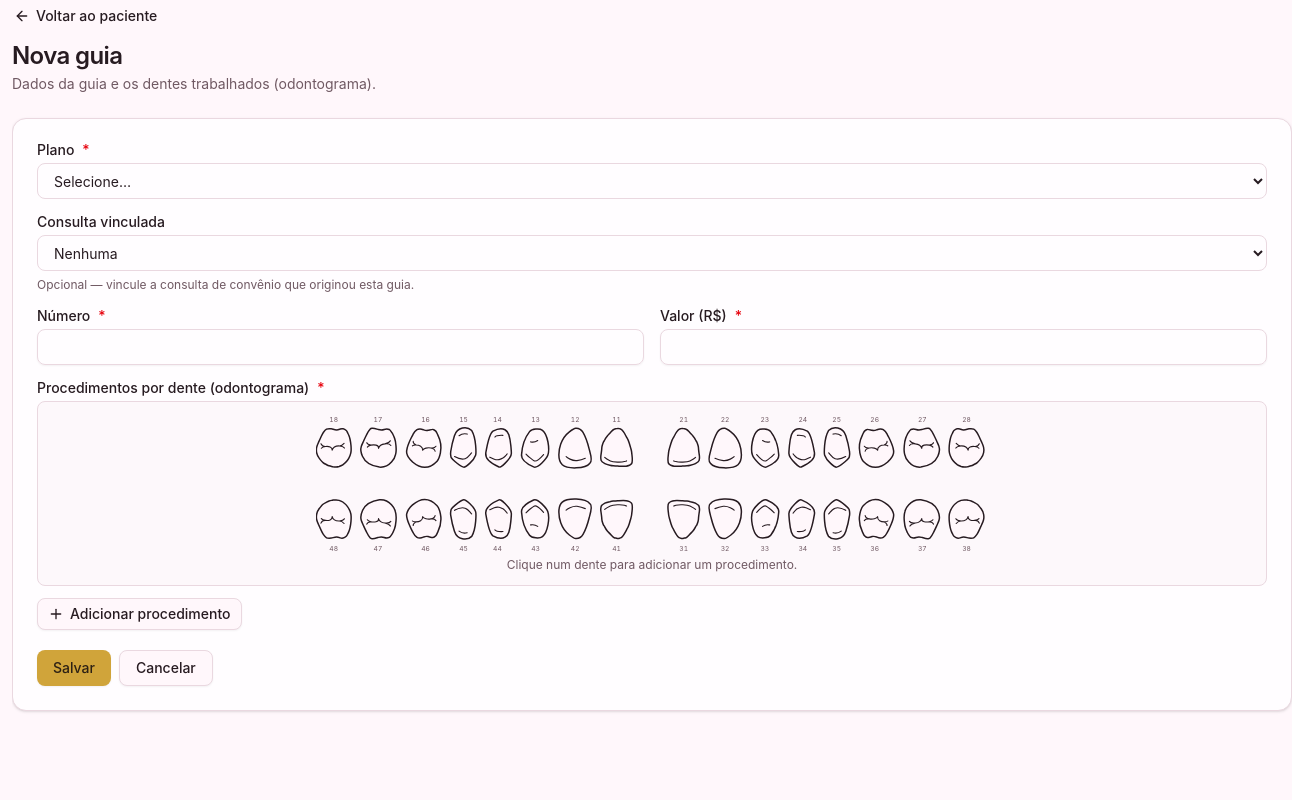
Test case: GuiaPage › exige ao menos um dente selecionado para salvar
The image size is (1292, 800).
Select "Amil" in the dropdown labelled "Plano *": {"x": 652, "y": 181} x1=37 y1=163 x2=1267 y2=199
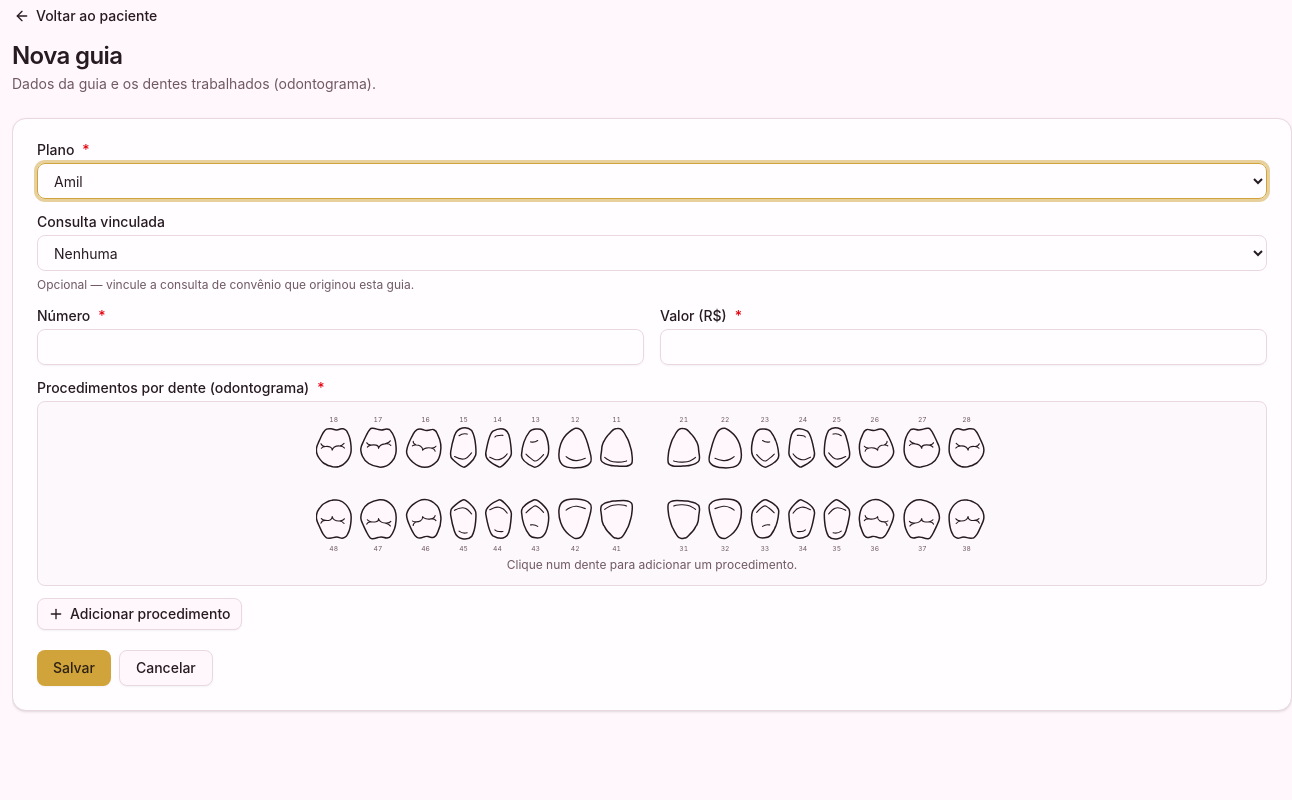
In the field labelled "Número *": {"x": 340, "y": 347} x1=37 y1=329 x2=644 y2=365, type "G-2"
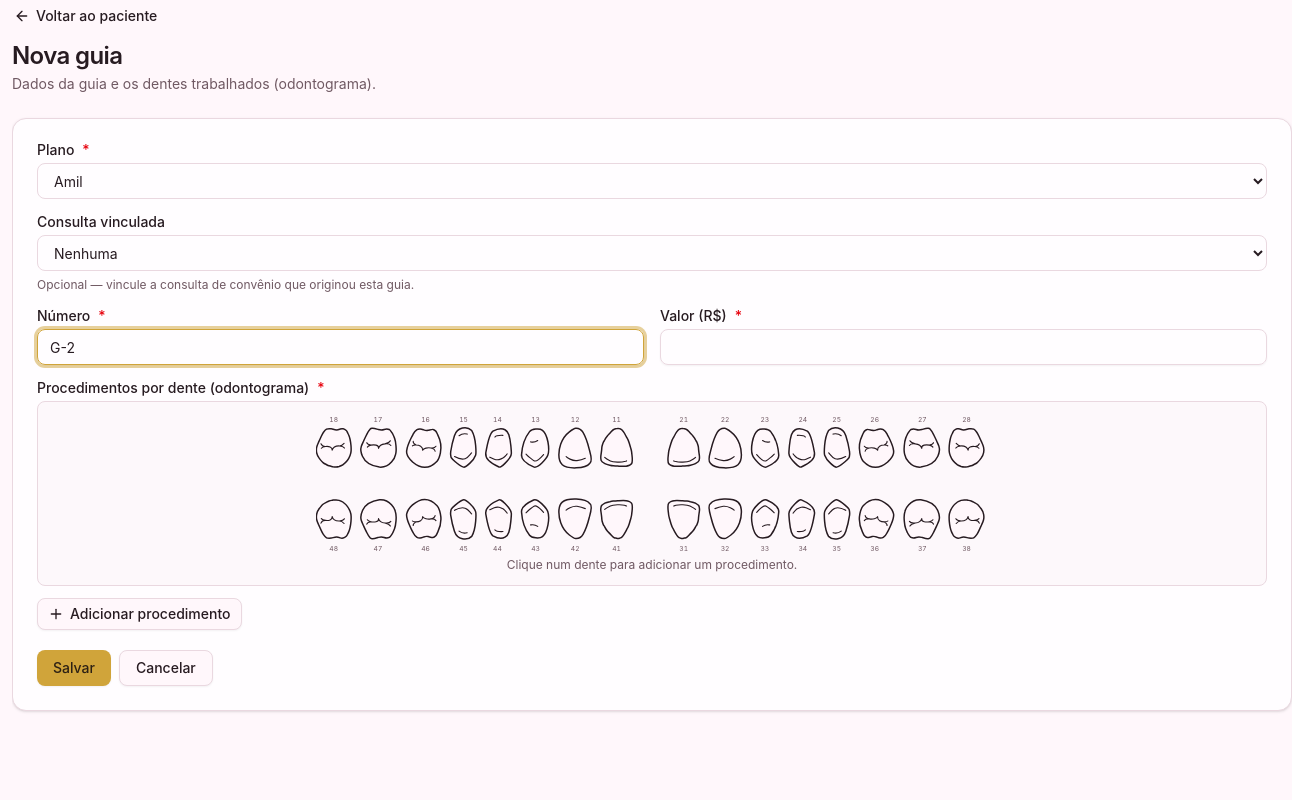
In the field labelled "Valor (R$) *": {"x": 964, "y": 347} x1=660 y1=329 x2=1267 y2=365, type "250"
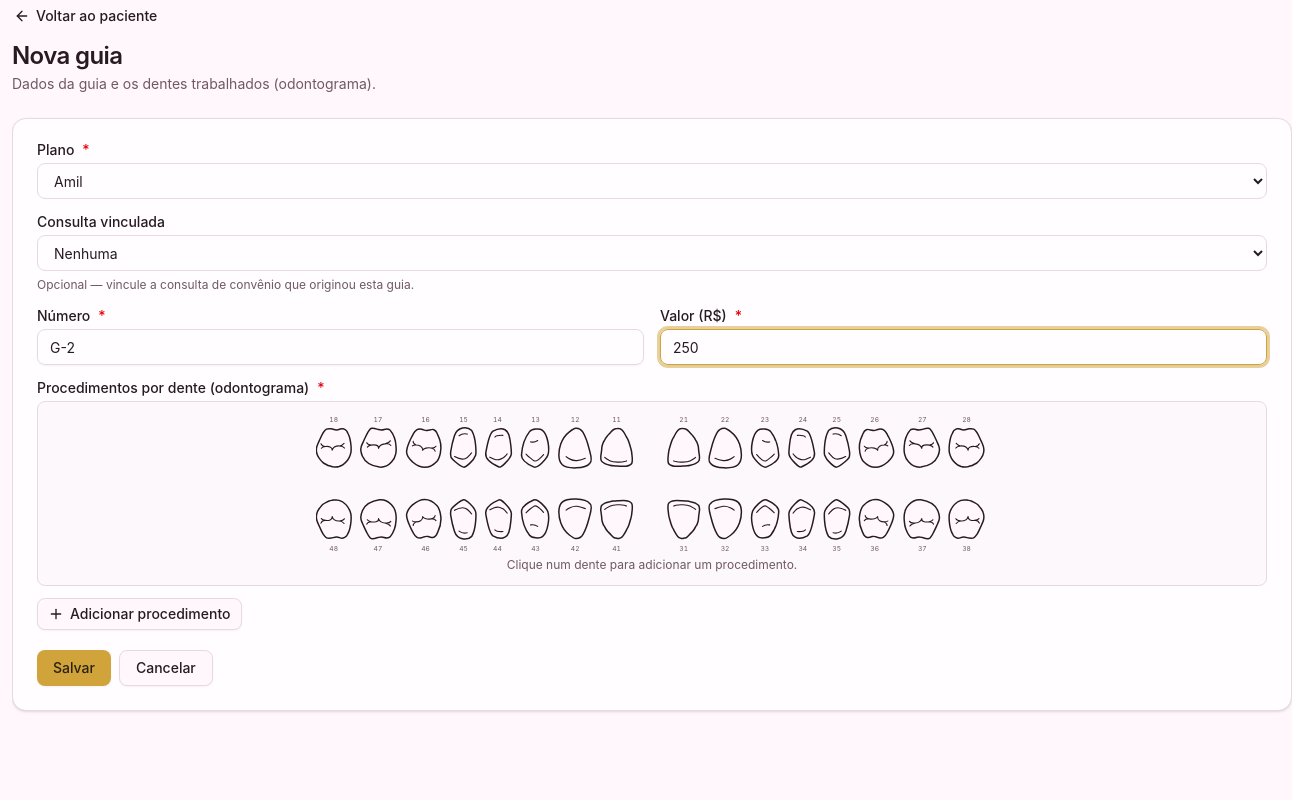
Click the button "Salvar": {"x": 74, "y": 668} x1=37 y1=650 x2=111 y2=686
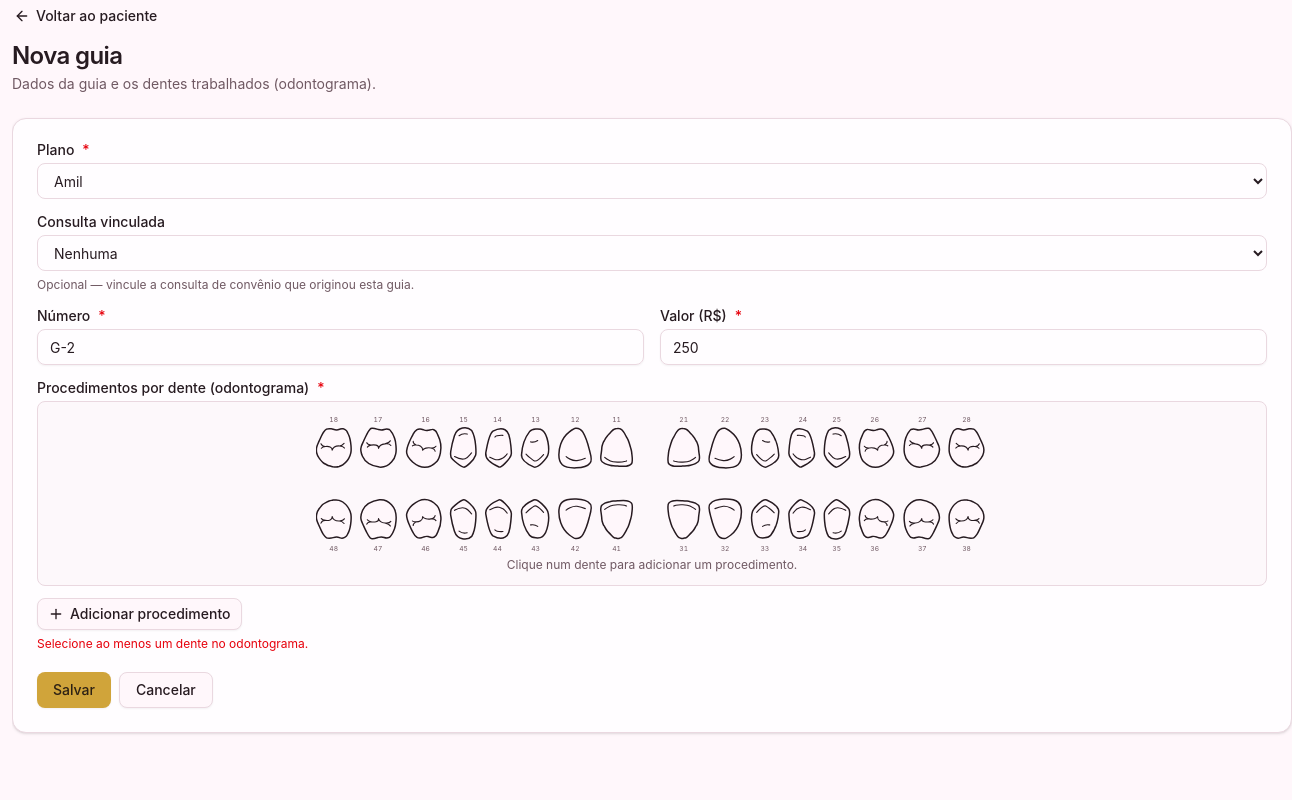
Now the text "Selecione ao menos um dente no odontograma." is shown, box x1=37 y1=636 x2=308 y2=651
